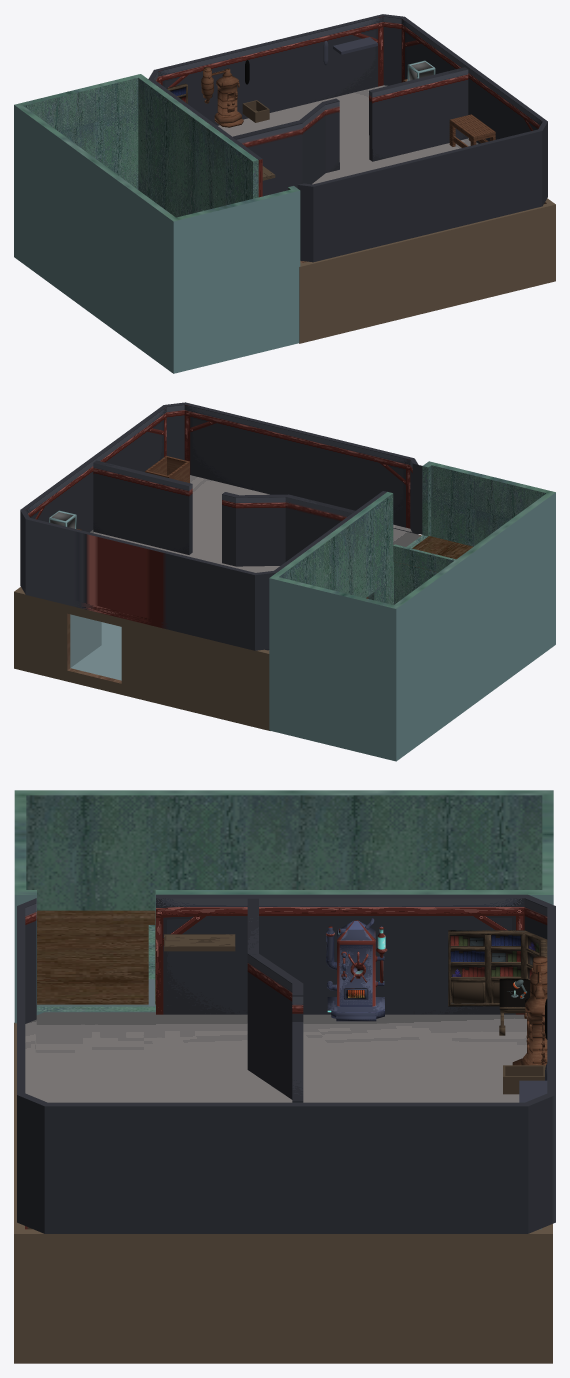
The model's file is allroom.fbx.
The picture shows the model from 3 angles, top to bottom: view 1: azimuth 30°, elevation 25°; view 2: azimuth 150°, elevation 25°; view 3: azimuth 270°, elevation 25°; orthographic projection. The views are drawn at different scales.
Visible parts, largest first — view 1: Cube.077; view 2: Cube.077; view 3: Cube.077.
Part boxes in pixels (x1=…): Cube.077: x1=14, y1=14, x2=555, y2=373; Cube.077: x1=14, y1=402, x2=555, y2=761; Cube.077: x1=14, y1=790, x2=555, y2=1363.
Bounding box in the file's own units: 604 × 230 × 438.
Materials: 74 (34 with a texture image).
